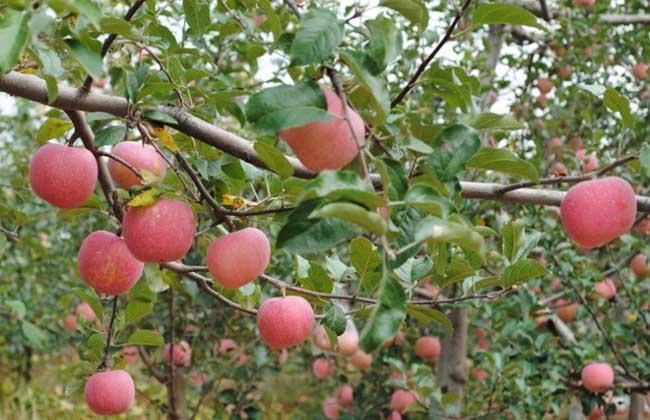apple: (278, 83, 365, 173), (559, 176, 638, 249), (122, 197, 197, 263), (30, 142, 99, 209), (76, 229, 145, 295), (205, 226, 270, 288), (256, 294, 315, 349), (108, 140, 166, 188), (83, 368, 134, 414), (415, 336, 441, 359), (631, 252, 649, 279)
